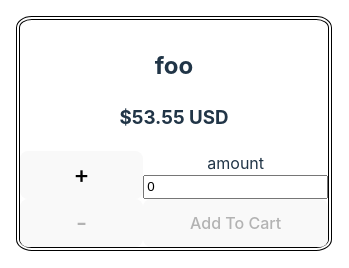
Test case: ShopItem › Add To Cart button › is disabled when item amount is 0
This screenshot has width=349, height=268.
Expected: the button "Add To Cart" is disabled, x1=143 y1=199 x2=328 y2=247
Click the button named "add button": [81, 175] box x1=20 y1=151 x2=143 y2=199
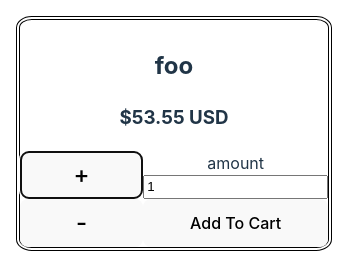
Click the button named "subtract button": [81, 223] box x1=20 y1=199 x2=143 y2=247
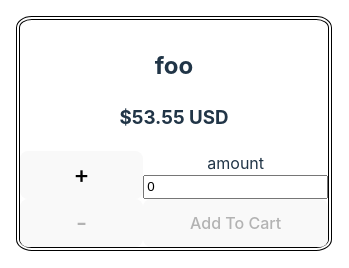
Expected: the button "Add To Cart" is disabled, x1=143 y1=199 x2=328 y2=247
